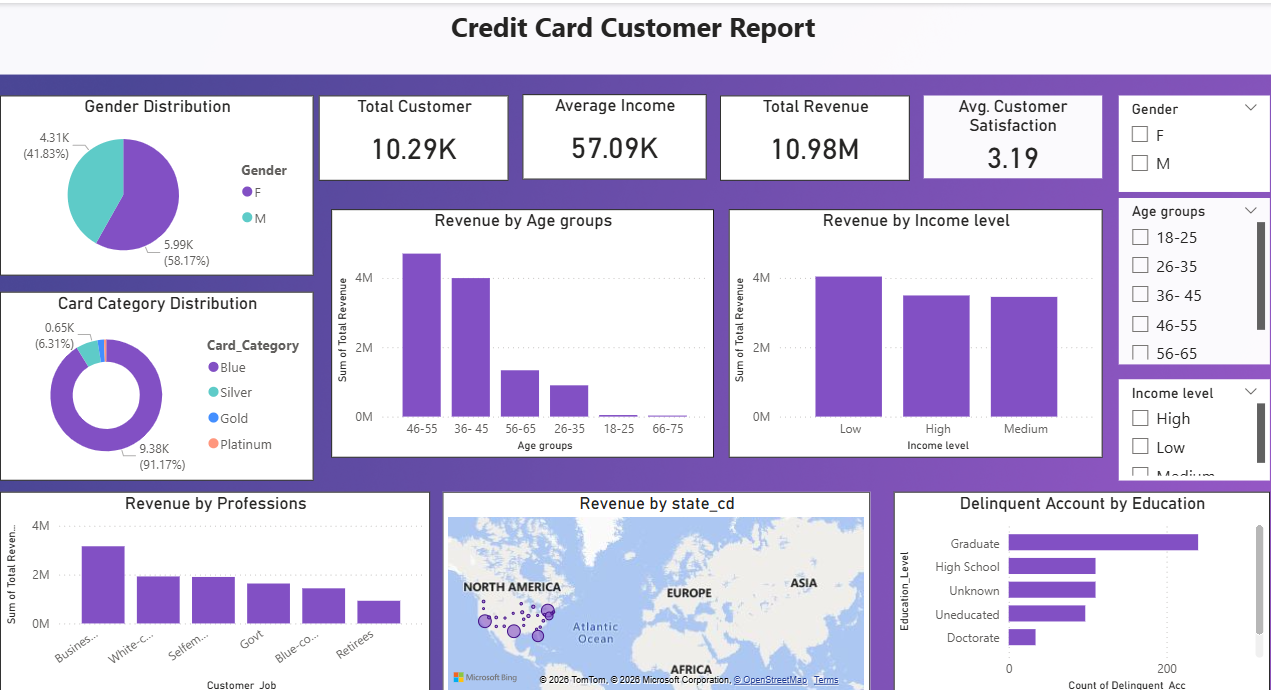

The dashboard page shown, as its layout file describes it:
{"tool":"powerbi","page":{"name":"Page 1","canvas":[1280,720],"ordinal":0},"visuals":[{"type":"textbox","box":[0,0,1280,70.9],"z":0},{"type":"slicer","fields":{"Values":["customer.Gender"]},"box":[1123.3,92.1,150.5,84.6],"z":1000},{"type":"slicer","fields":{"Values":["customer.Age groups"]},"box":[1123.8,196.2,150,163.8],"z":2000},{"type":"slicer","fields":{"Values":["customer.Custom"]},"box":[1123.3,374.4,150.5,100.8],"z":3000},{"type":"card","title":"Total Customer","fields":{"Values":["CountNonNull(customer.Client_Num)"]},"box":[339.6,92.1,176.6,84.6],"z":4000},{"type":"columnChart","title":" Revenue by Professions","fields":{"Category":["customer.Customer_Job"],"Y":["Sum(CreditCard.Total Revenue)"]},"box":[10,486.2,405,205],"z":5000},{"type":"card","title":"Average Income","fields":{"Values":["Avg(customer.Income)"]},"box":[529.9,90.8,182.9,84.6],"z":6000},{"type":"card","title":"Total Revenue","fields":{"Values":["Sum(CreditCard.Total Revenue)"]},"box":[726.5,92.1,189.1,84.6],"z":7000},{"type":"columnChart","title":" Revenue by Age groups","fields":{"Category":["customer.Age groups"],"Y":["Sum(CreditCard.Total Revenue)"]},"box":[339.6,205.3,380.7,247.5],"z":8000},{"type":"barChart","title":"Delinquent Account by Education","fields":{"Category":["customer.Education_Level"],"Y":["CountNonNull(CreditCard.Delinquent_Acc)"]},"box":[899.4,486.4,374.4,205.3],"z":9000},{"type":"donutChart","title":" Card Category Distribution","fields":{"Category":["CreditCard.Card_Category"],"Y":["CountNonNull(CreditCard.Card_Category)"]},"box":[10,93.8,312.5,182.5],"z":10000},{"type":"clusteredColumnChart","title":"Revenue by Income level","fields":{"Y":["Sum(CreditCard.Total Revenue)"],"Category":["customer.Income level"]},"box":[735.2,205.3,371.9,247.5],"z":11000},{"type":"shapeMap","title":"Revenue by state_cd","fields":{"Category":["customer.state_cd"],"Value":["Sum(CreditCard.Total Revenue)"]},"box":[10,285,312.5,167.5],"z":12000},{"type":"card","title":"Avg. Customer Satisfaction","fields":{"Values":["Avg(customer.Cust_Satisfaction_Score)"]},"box":[928.8,93.3,177.9,83.4],"z":13000},{"type":"lineChart","title":" Revenue Trend by Gender","fields":{"Category":["CreditCard.Week_Start_Date.Variation.Date Hierarchy.Year","CreditCard.Week_Start_Date.Variation.Date Hierarchy.Month"],"Y":["Sum(CreditCard.Total Revenue)"],"Series":["customer.Gender"]},"box":[427.5,486.2,450,205],"z":14000}]}

Visuals, with their boxes on the page's 1280x720 design canvas (x1, y1, x2, y2). These are canvas units, not pixel positions in the 1271x690 screenshot, which may show the page scaled, cropped or inside an application window:
textbox: detection(0, 0, 1280, 71)
slicer - customer.Gender: detection(1123, 92, 1274, 177)
slicer - customer.Age groups: detection(1124, 196, 1274, 360)
slicer - customer.Custom: detection(1123, 374, 1274, 475)
"Total Customer" card: detection(340, 92, 516, 177)
" Revenue by Professions" columnChart: detection(10, 486, 415, 691)
"Average Income" card: detection(530, 91, 713, 175)
"Total Revenue" card: detection(726, 92, 916, 177)
" Revenue by Age groups" columnChart: detection(340, 205, 720, 453)
"Delinquent Account by Education" barChart: detection(899, 486, 1274, 692)
" Card Category Distribution" donutChart: detection(10, 94, 322, 276)
"Revenue by Income level" clusteredColumnChart: detection(735, 205, 1107, 453)
"Revenue by state_cd" shapeMap: detection(10, 285, 322, 452)
"Avg. Customer Satisfaction" card: detection(929, 93, 1107, 177)
" Revenue Trend by Gender" lineChart: detection(428, 486, 878, 691)
